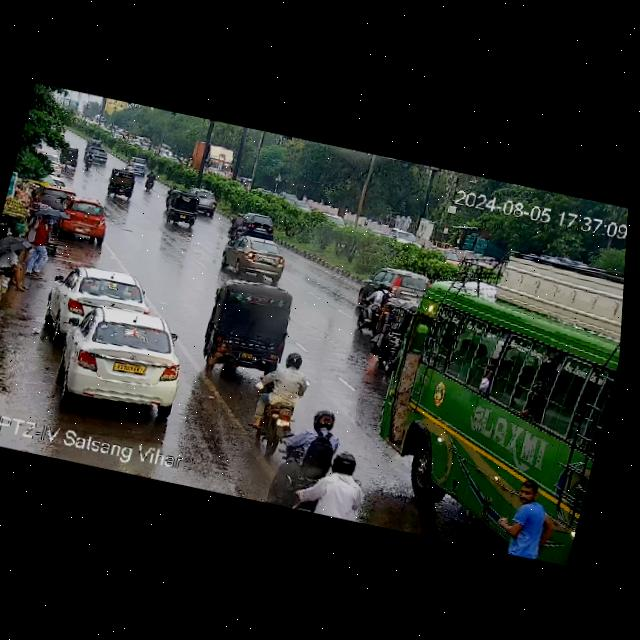bus: (360, 233, 627, 550)
car: (50, 299, 197, 417), (197, 273, 306, 382), (44, 259, 153, 341), (220, 231, 294, 284), (372, 295, 416, 369), (57, 198, 113, 243), (371, 264, 428, 304), (164, 192, 206, 227), (184, 184, 223, 218), (242, 212, 280, 241), (105, 169, 139, 200), (57, 143, 85, 169), (84, 148, 112, 168)
motorcycle: (280, 401, 343, 513), (251, 351, 311, 453), (308, 450, 372, 521), (356, 277, 394, 334), (226, 210, 247, 240), (163, 183, 180, 207), (131, 157, 150, 177), (81, 148, 95, 172), (144, 170, 159, 192), (124, 163, 134, 172)
person: (503, 481, 555, 561), (0, 240, 47, 295), (25, 212, 55, 278), (20, 193, 44, 240)
truck: (187, 139, 235, 180)
